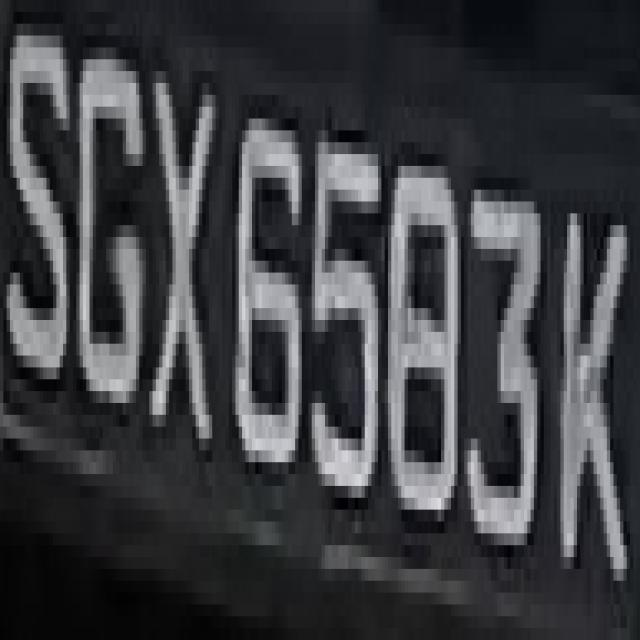3: (467, 118, 544, 569)
5: (308, 83, 388, 510)
6: (242, 59, 302, 522)
8: (381, 130, 471, 581)
G: (76, 24, 153, 426)
K: (554, 166, 627, 616)
S: (16, 0, 80, 439)
X: (153, 47, 232, 498)
